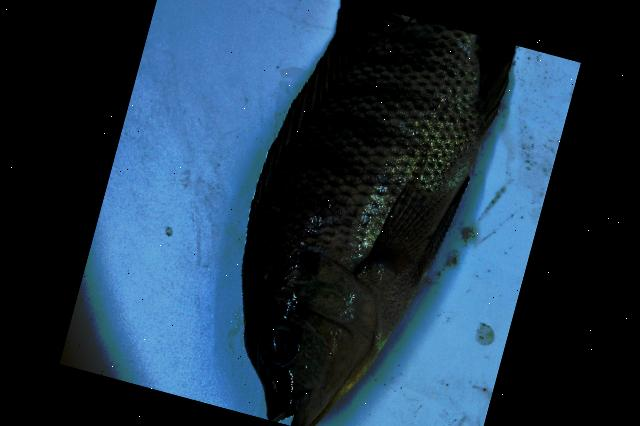Columnaris Disease: (243, 0, 516, 426)
